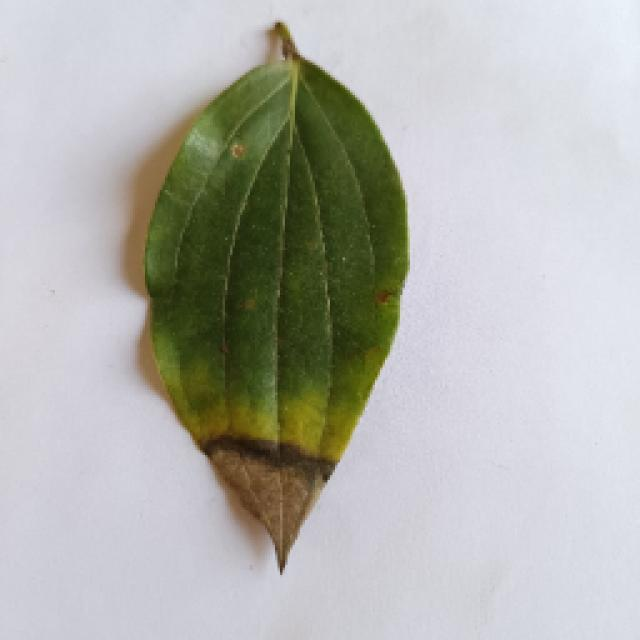footrot: (135, 30, 410, 575)
